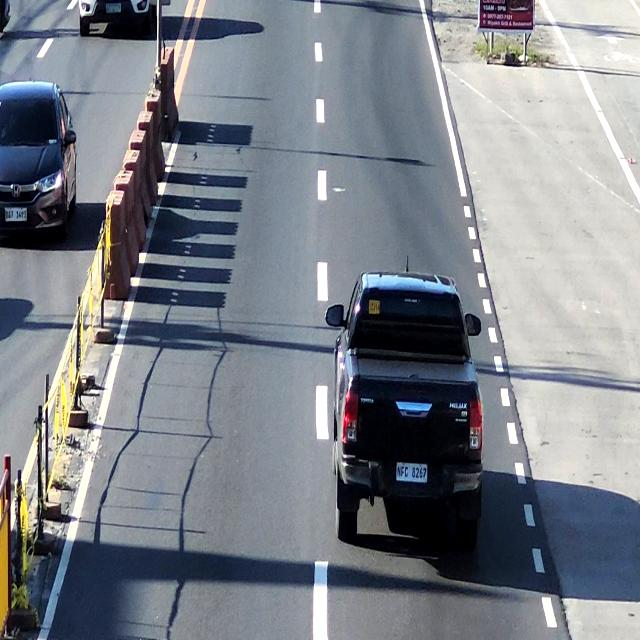Car: (333, 274, 492, 532)
License-Plate: (394, 462, 430, 492), (3, 208, 30, 227)
